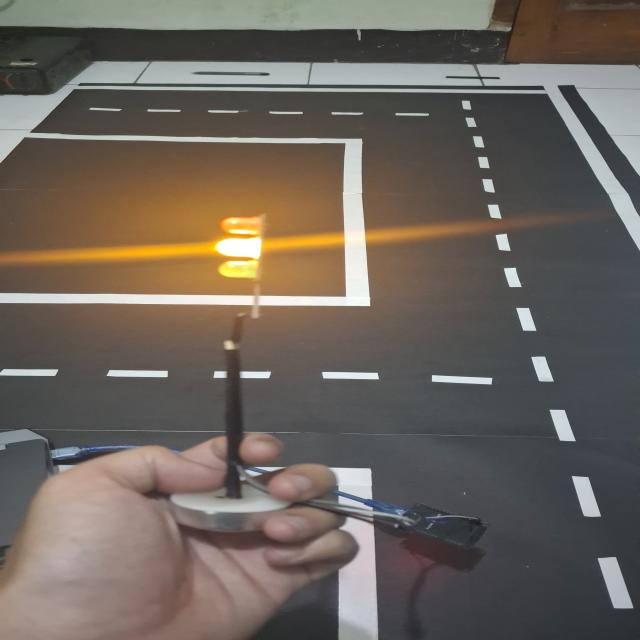Lampu Kuning: (215, 214, 266, 284)
